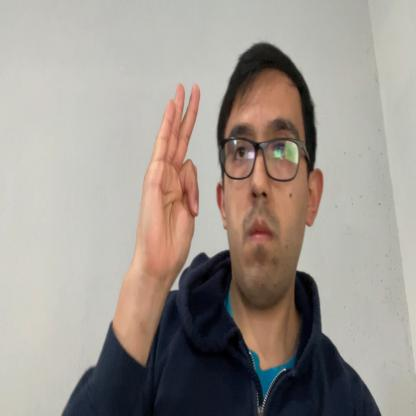F: (137, 81, 199, 290)
